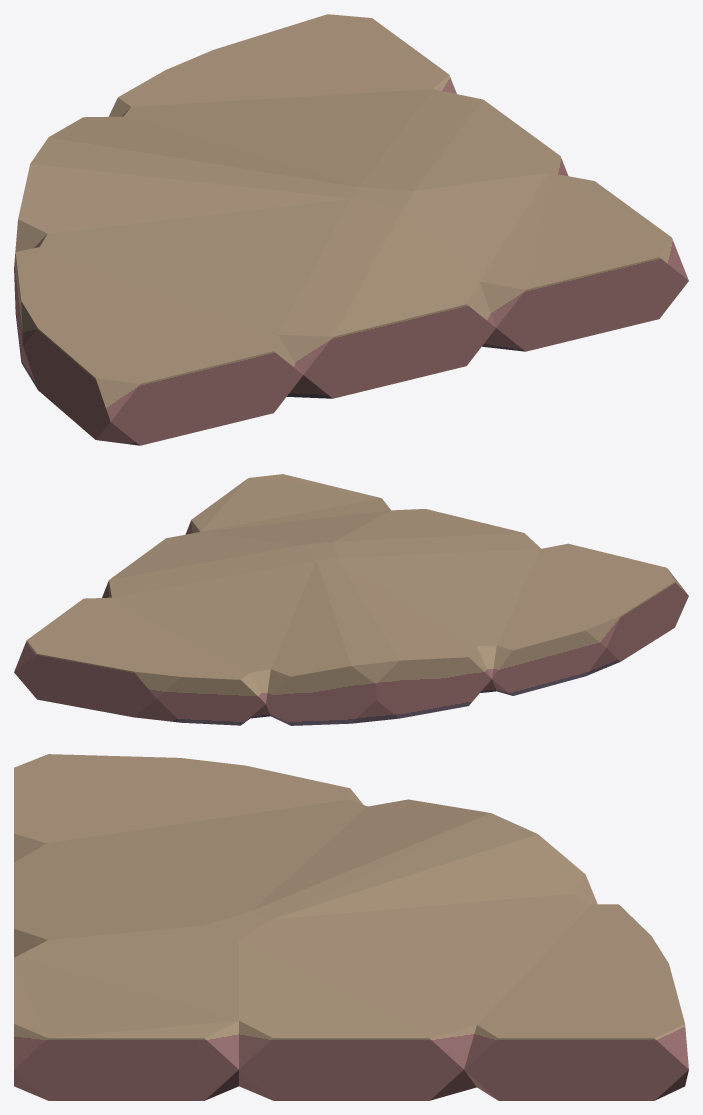
File: Tiles 5.002.fbx
3 views of the same model, one above another, from view 1: azimuth 30°, elevation 25°; view 2: azimuth 150°, elevation 25°; view 3: azimuth 270°, elevation 25° (orthographic). The views are drawn at different scales.
Visible parts, largest first — view 1: Tiles 5.002; view 2: Tiles 5.002; view 3: Tiles 5.002.
Part boxes in pixels (x1=…): Tiles 5.002: x1=14, y1=14, x2=688, y2=445; Tiles 5.002: x1=14, y1=474, x2=688, y2=725; Tiles 5.002: x1=14, y1=754, x2=688, y2=1100.
Bounding box in the file's own units: 495 × 66.04 × 495.
